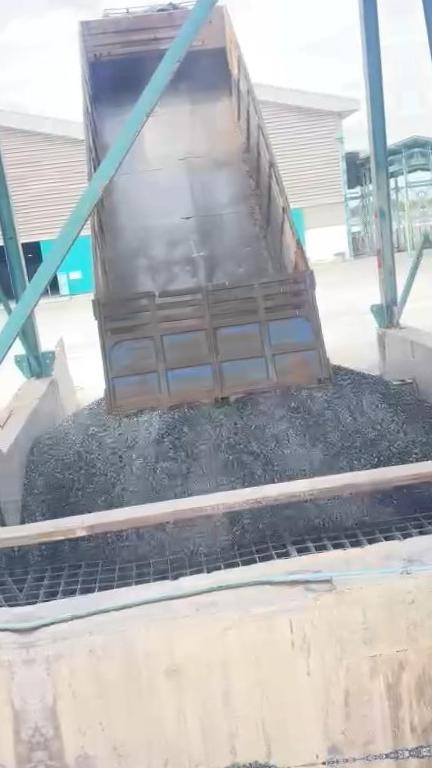gravel: (23, 367, 432, 520), (20, 484, 432, 566), (367, 738, 432, 758), (144, 762, 279, 768)
